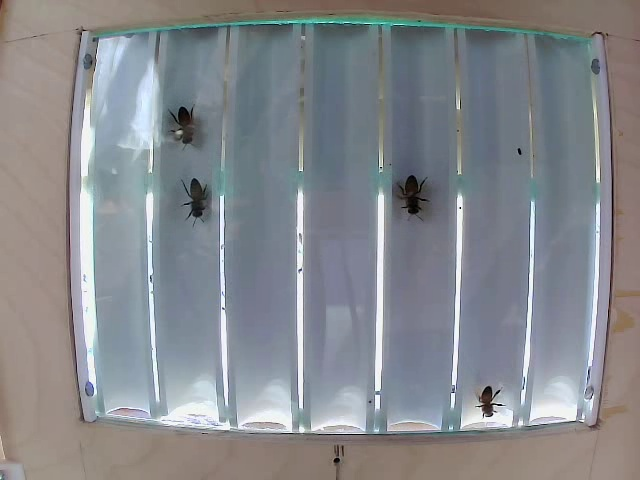bee: (393, 175, 431, 220), (480, 378, 519, 418), (164, 91, 199, 135), (179, 182, 214, 218)
